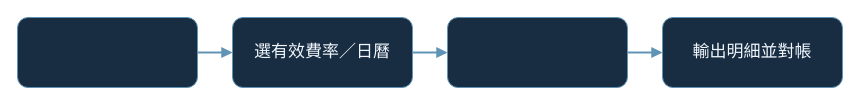
This 860x105 diagram has some shape labels left out. Here are the shapes that lost their labels. From the top down, the centre of each, then its label:
At point 107,52: "辨識用戶與合約".
At point 537,52: "級距或分桶＋需量".
